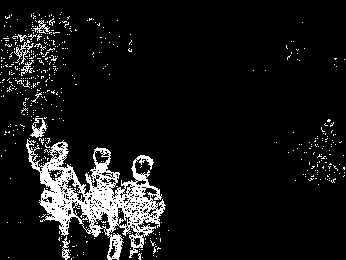person: (115, 154, 166, 260), (79, 144, 125, 260), (38, 140, 81, 260), (26, 115, 55, 176)
